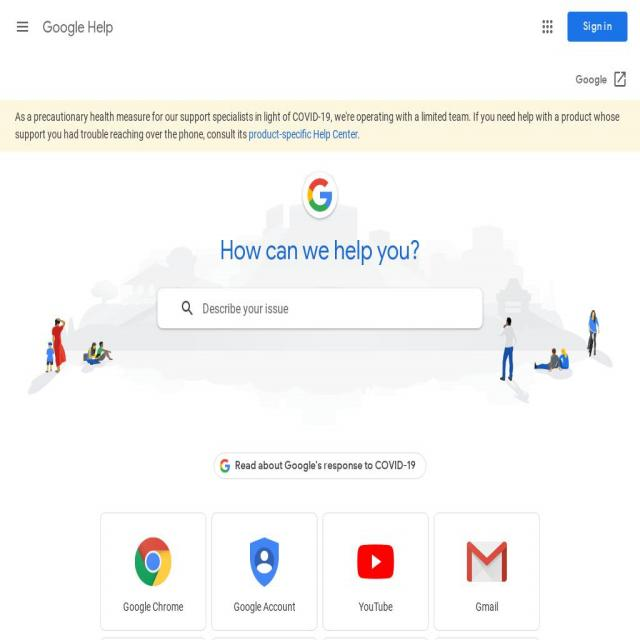login-option: (571, 10, 634, 47)
navigation-blocks: (91, 497, 549, 635)
options: (539, 15, 560, 40), (14, 17, 36, 38)
search: (155, 282, 489, 336)
